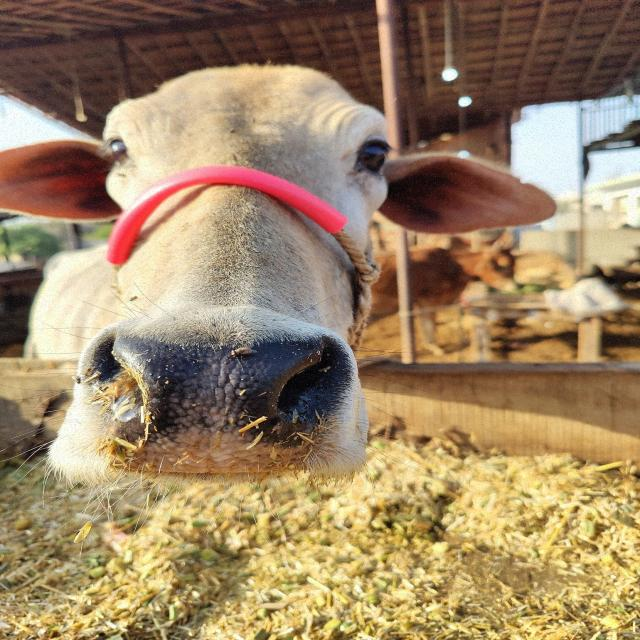muzzles: (85, 323, 356, 483)
